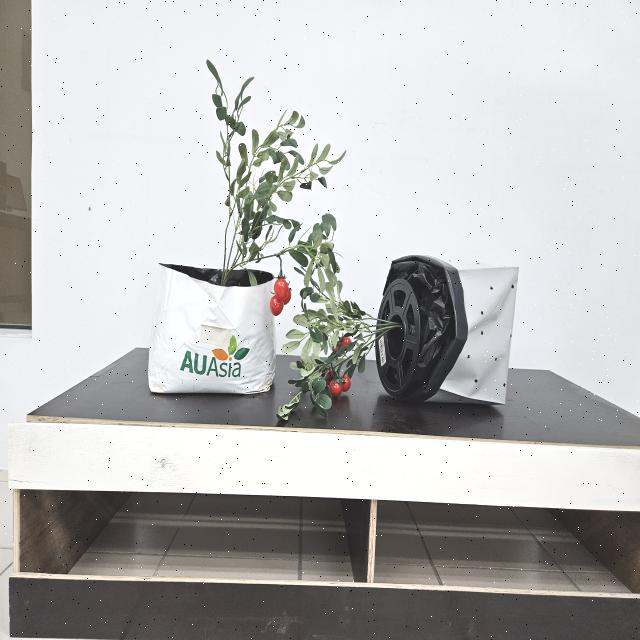Obstacle: (286, 266, 520, 426)
Soilbag: (148, 264, 277, 396)
plant: (206, 60, 346, 317)
